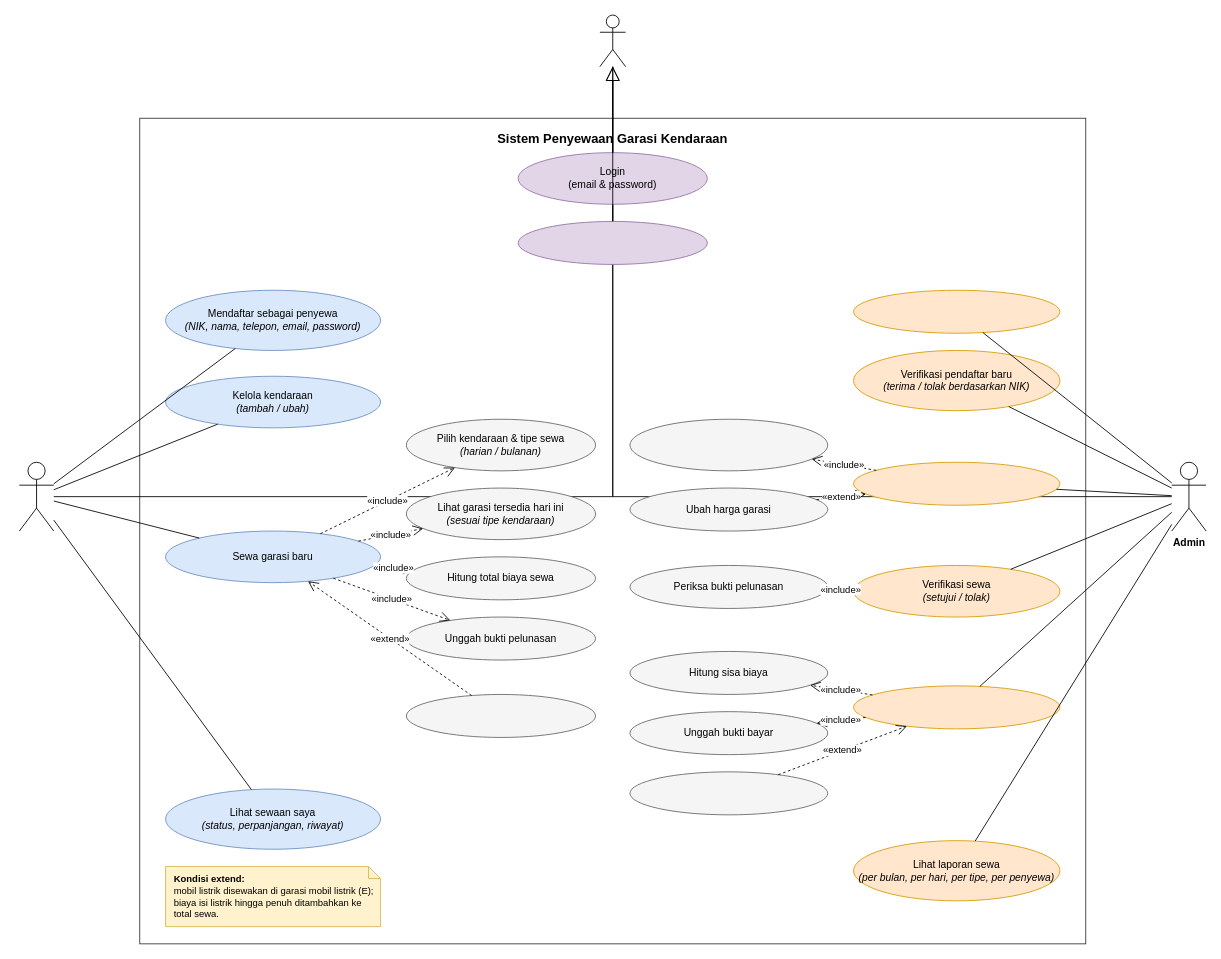
The diagram is 1221 pixels wide and 959 high, and some of its shapes have lost their labels. The shapes that lost their labels are listed below. From the top down, each one's centre as x and y in pixels, then its label:
point 612,40: Pengguna
point 612,242: Logout
point 956,311: Lihat dasbor
point 728,444: Buat garasi berkelompok (kode S/C/E + 3 digit, maks. 999)
point 36,496: Penyewa
point 956,483: Kelola garasi
point 500,715: Isi sisa baterai (%)
point 956,707: Perpanjang status garasi
point 728,793: Lihat riwayat perpanjangan
